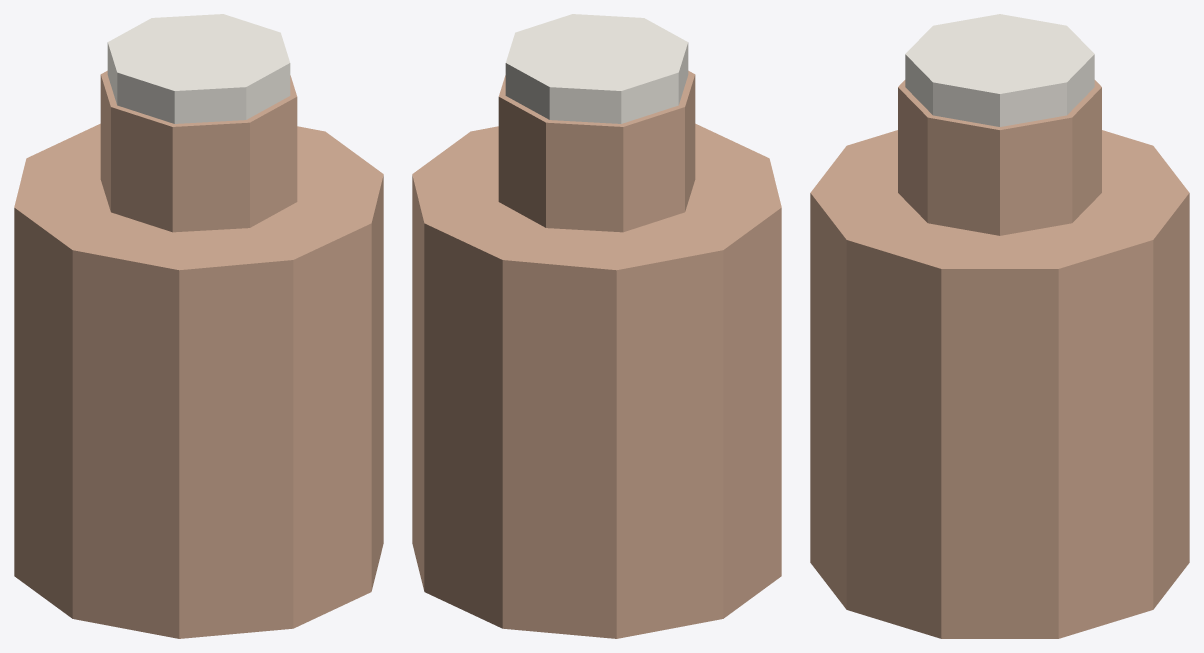
The model's file is item_milk.glb.
The picture shows the model from 3 angles, left to right: view 1: azimuth 30°, elevation 25°; view 2: azimuth 150°, elevation 25°; view 3: azimuth 270°, elevation 25°; orthographic projection.
Parts seen in each view (by area): view 1: item_milk; view 2: item_milk; view 3: item_milk.
Boxes of the visible parts, x1,y1,x2,y2 form: item_milk: (14, 14, 383, 638); item_milk: (412, 14, 781, 638); item_milk: (810, 14, 1189, 638).
Bounding box in the file's own units: 0.2473 × 0.385 × 0.26.
